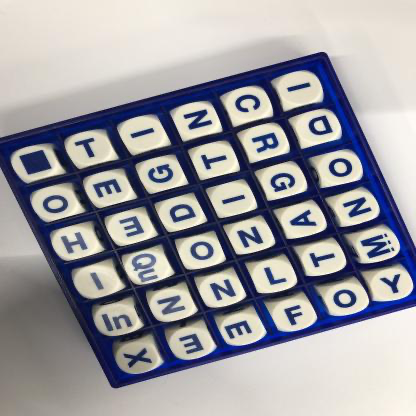a: (283, 206, 323, 235)
c: (230, 90, 269, 120)
d: (299, 112, 340, 144), (162, 199, 203, 229)
e: (109, 213, 151, 244), (172, 329, 212, 360), (89, 174, 129, 204), (223, 315, 262, 345)
f: (273, 302, 316, 331)
g: (263, 165, 304, 198), (142, 159, 181, 191)
h: (55, 228, 96, 258)
i: (76, 267, 119, 298), (124, 119, 165, 151), (280, 74, 322, 105), (214, 184, 255, 215)
in: (98, 306, 138, 337)
l: (254, 262, 295, 292)
m: (358, 231, 400, 262)
n: (176, 105, 217, 136), (153, 290, 194, 321), (232, 223, 274, 252), (337, 194, 377, 224), (202, 276, 241, 306)
o: (319, 154, 362, 186), (180, 238, 224, 268), (327, 285, 366, 316), (36, 189, 76, 218)
qu: (127, 252, 169, 284)
r: (247, 127, 287, 158)
t: (303, 243, 344, 274), (196, 145, 236, 176), (72, 134, 109, 165)
wild: (16, 149, 56, 179)
x: (119, 344, 159, 374)
y: (374, 270, 412, 301)
